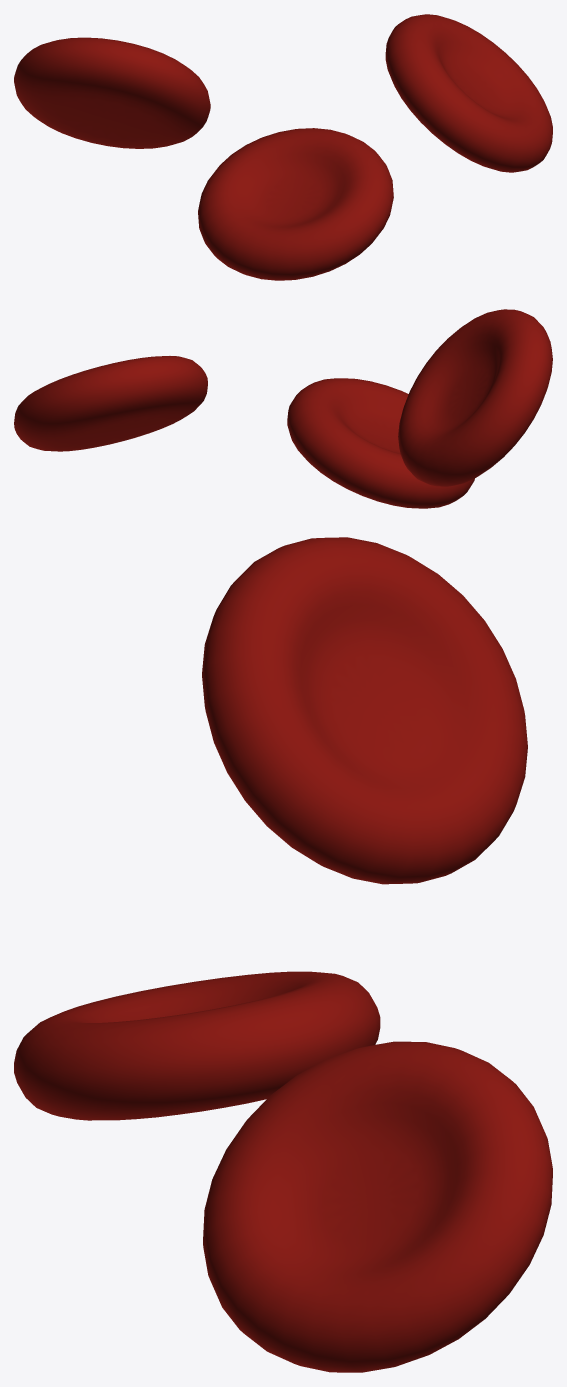
The model's file is platelet-3.glb.
3 renders of one model, top to bottom at view 1: azimuth 30°, elevation 25°; view 2: azimuth 150°, elevation 25°; view 3: azimuth 270°, elevation 25°, orthographic. The views are drawn at different scales.
Visible parts, largest first — view 1: Torus.002_0; view 2: Torus.002_0; view 3: Torus.002_0.
Boxes of the visible parts, x1,y1,x2,y2 form: Torus.002_0: (14, 14, 552, 280); Torus.002_0: (14, 309, 552, 508); Torus.002_0: (14, 537, 552, 1372).
Size of the model in its own units: 1.36 by 0.5846 by 0.6635.
